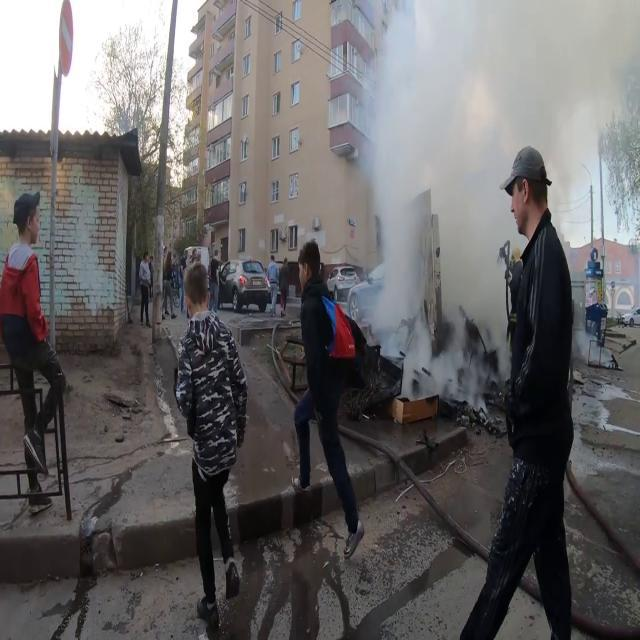Smoke: (351, 0, 589, 372)
